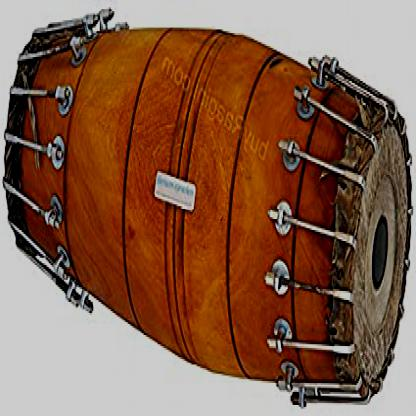Mridangam: (6, 1, 415, 410)
